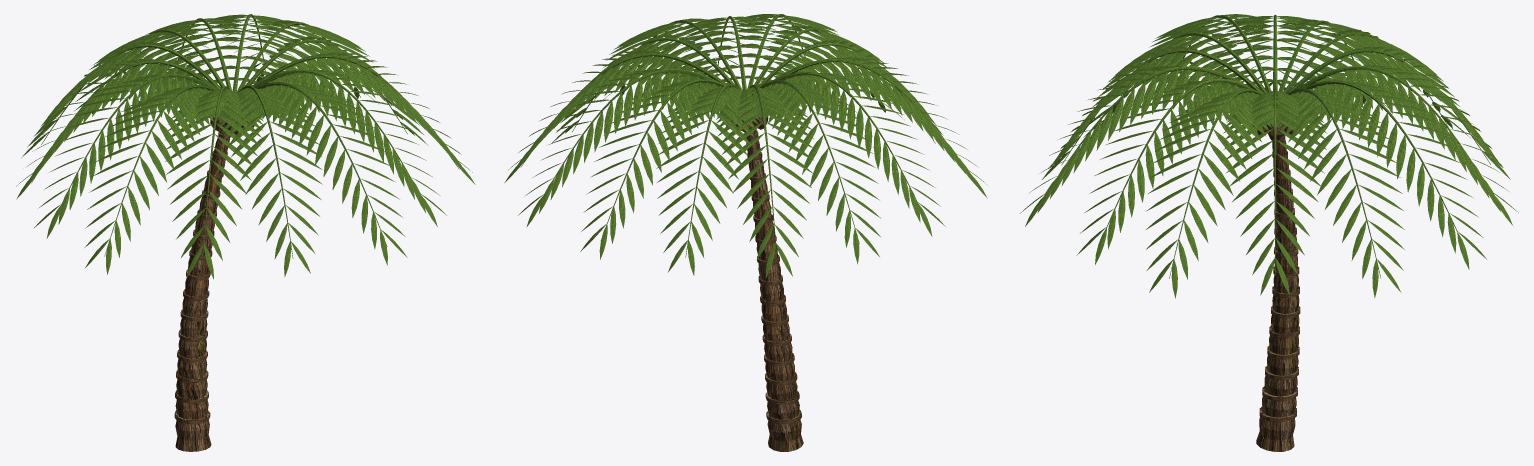
File: CoastalPalm.fbx
3 renders of one model, left to right at view 1: azimuth 30°, elevation 25°; view 2: azimuth 150°, elevation 25°; view 3: azimuth 270°, elevation 25°, orthographic. The views are drawn at different scales.
Visible parts, largest first — view 1: CoastalPalm_LOD0; view 2: CoastalPalm_LOD0; view 3: CoastalPalm_LOD0.
Boxes of the visible parts, x1,y1,x2,y2 form: CoastalPalm_LOD0: (16,14,475,451); CoastalPalm_LOD0: (504,14,987,451); CoastalPalm_LOD0: (1020,14,1518,451).
Size of what is drawn, in the model's own units: 7.87 by 7.32 by 8.16.
